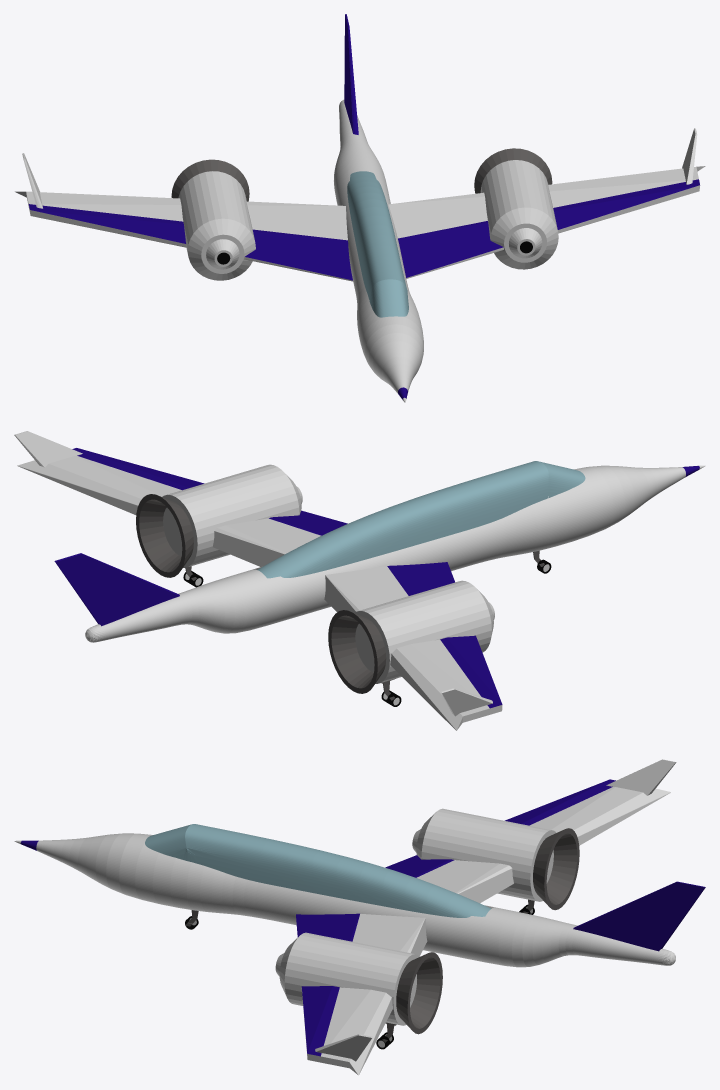
File: avion.dae
3 views of the same model, one above another, from view 1: azimuth 30°, elevation 25°; view 2: azimuth 150°, elevation 25°; view 3: azimuth 270°, elevation 25° (orthographic). The views are drawn at different scales.
Visible parts, largest first — view 1: Cylinder_006; view 2: Cylinder_006; view 3: Cylinder_006.
Boxes of the visible parts, x1,y1,x2,y2 form: Cylinder_006: [15, 14, 705, 402]; Cylinder_006: [14, 431, 705, 730]; Cylinder_006: [14, 759, 705, 1075].
Size of the model in its own units: 140 by 141 by 32.96.
